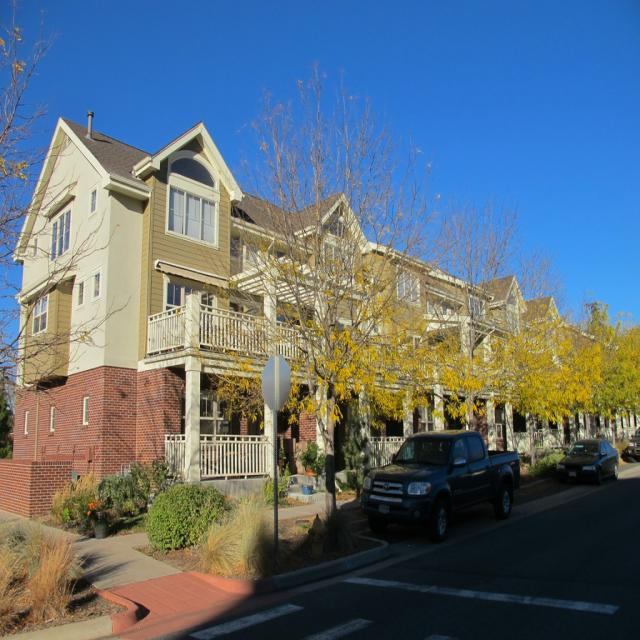car: (360, 427, 520, 540), (556, 436, 620, 485)
